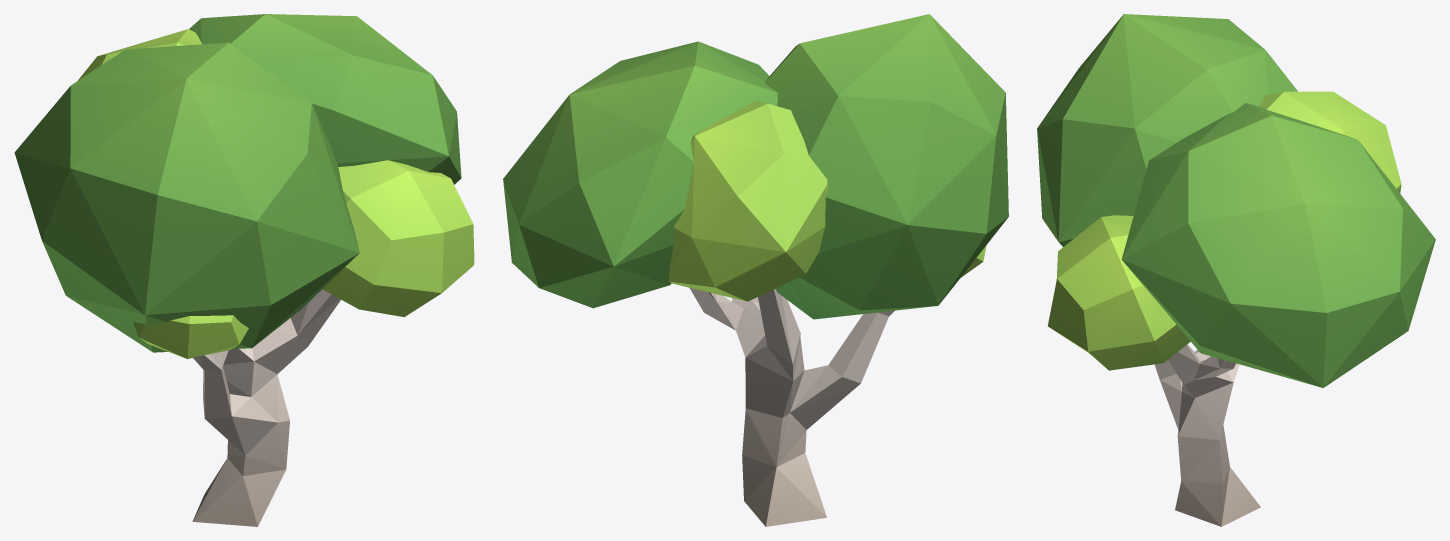
File: GreenTree1.fbx
3 views of the same model, side by side, from view 1: azimuth 30°, elevation 25°; view 2: azimuth 150°, elevation 25°; view 3: azimuth 270°, elevation 25° (orthographic). The views are drawn at different scales.
Parts seen in each view (by area): view 1: GreenTree1; view 2: GreenTree1; view 3: GreenTree1.
Boxes of the visible parts, x1=… form: GreenTree1: x1=14, y1=14, x2=474, y2=526; GreenTree1: x1=503, y1=14, x2=1008, y2=526; GreenTree1: x1=1037, y1=14, x2=1435, y2=526.
Size of the model in its own units: 484 by 530 by 424.
